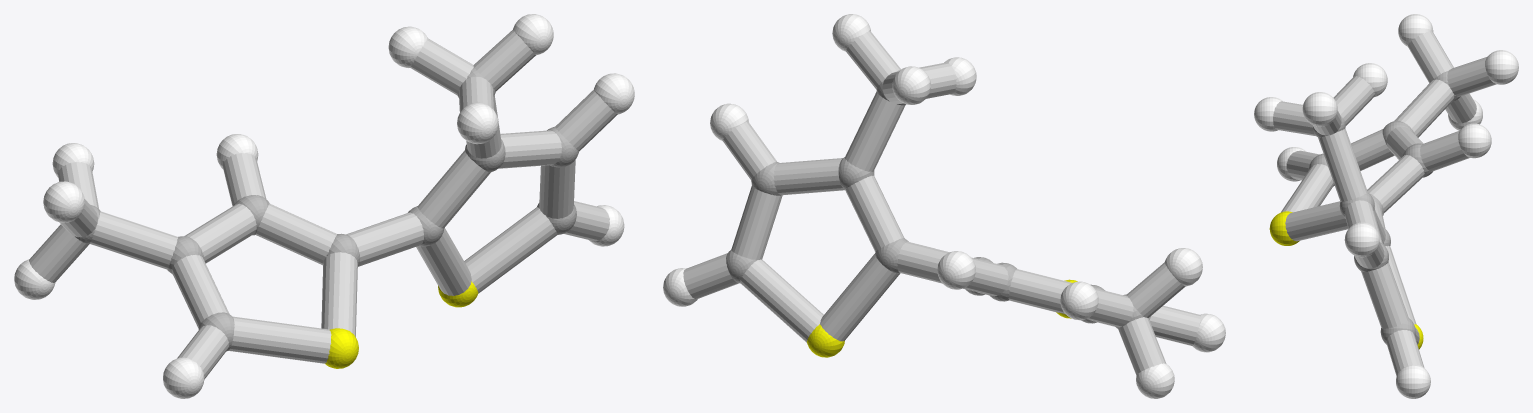
File: color.glb
The picture shows the model from 3 angles, left to right: view 1: azimuth 30°, elevation 25°; view 2: azimuth 150°, elevation 25°; view 3: azimuth 270°, elevation 25°; orthographic projection. The views are drawn at different scales.
Visible parts, largest first — view 1: grp7965, grp3621, grp1, grp7241; view 2: grp7965, grp3621, grp1, grp7241; view 3: grp7965, grp3621, grp1, grp7241.
Boxes of the visible parts, bbox=[...] form: grp7965: bbox=[29, 30, 617, 379]; grp3621: bbox=[14, 14, 634, 398]; grp1: bbox=[75, 67, 578, 351]; grp7241: bbox=[325, 281, 478, 368]; grp7965: bbox=[683, 31, 1200, 375]; grp3621: bbox=[663, 14, 1225, 398]; grp1: bbox=[726, 70, 1150, 328]; grp7241: bbox=[807, 279, 1077, 357]; grp7965: bbox=[1273, 31, 1496, 375]; grp3621: bbox=[1254, 14, 1518, 398]; grp1: bbox=[1308, 71, 1460, 344]; grp7241: bbox=[1269, 211, 1423, 349].
Bounding box in the file's own units: 9.53 × 5.1 × 4.53.
